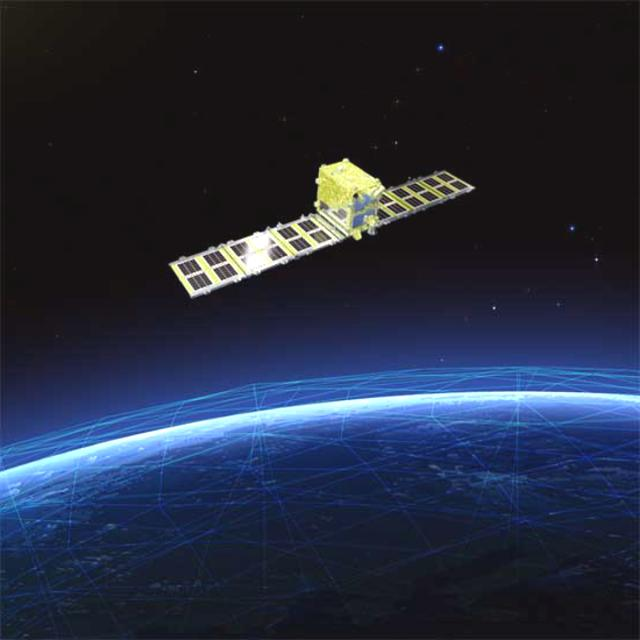satellite: (159, 113, 484, 336)
